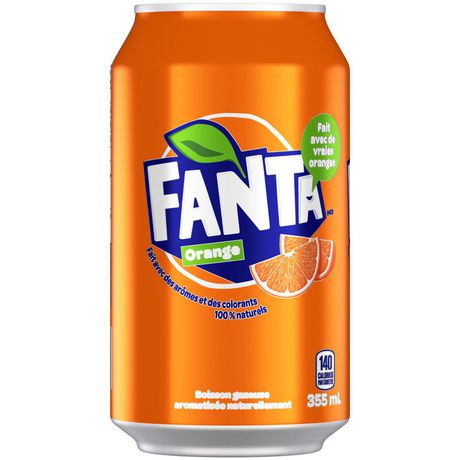Fanta: (89, 1, 361, 458)
